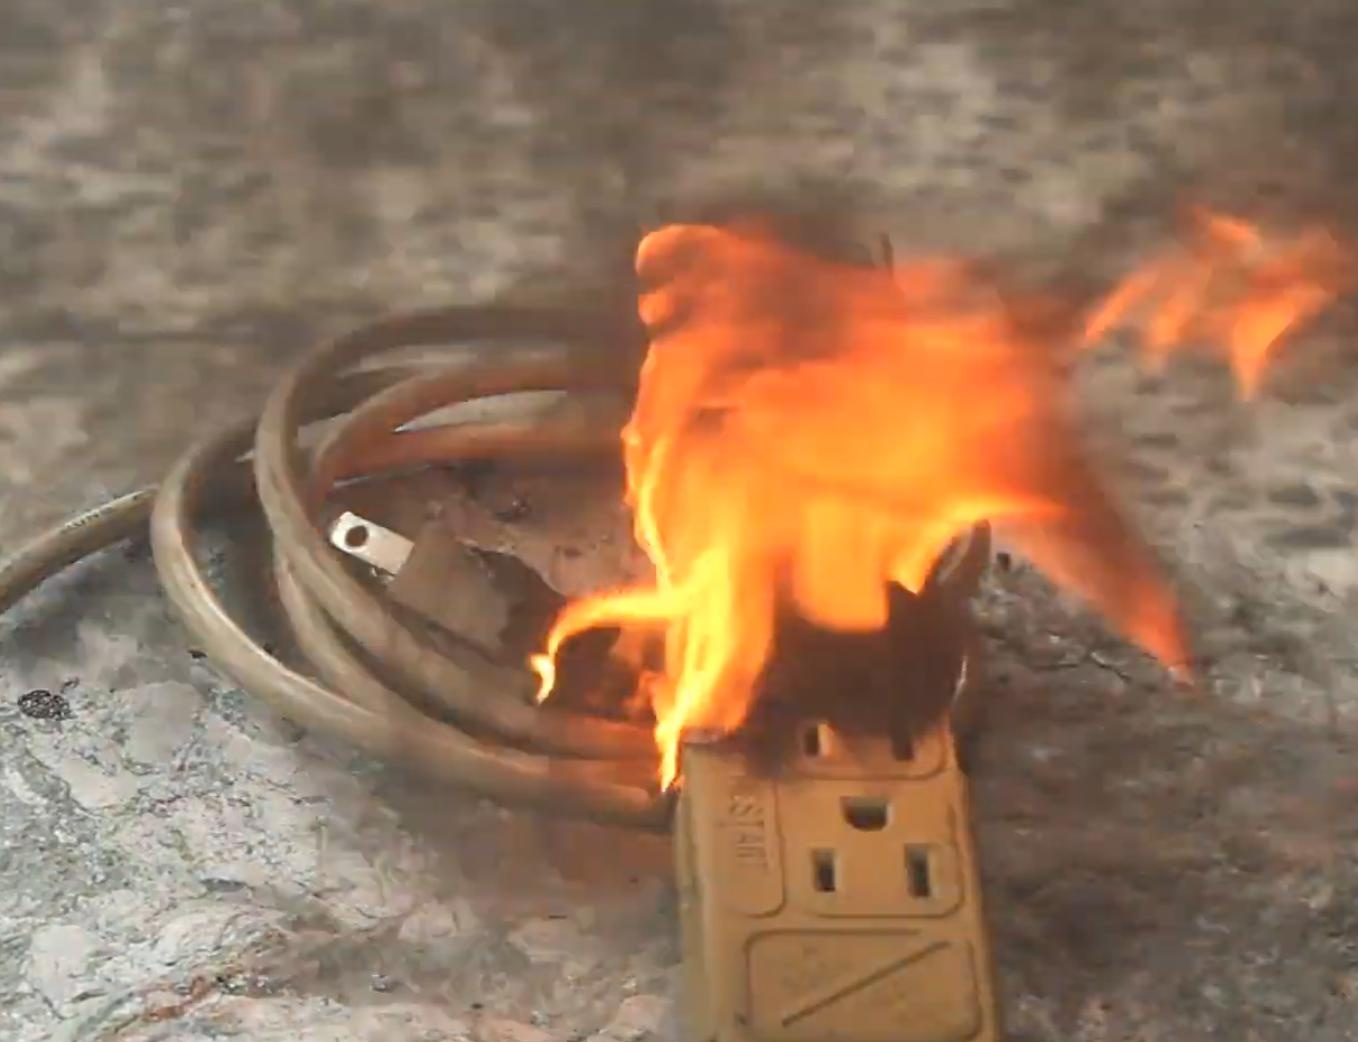fire: (522, 215, 1197, 777)
